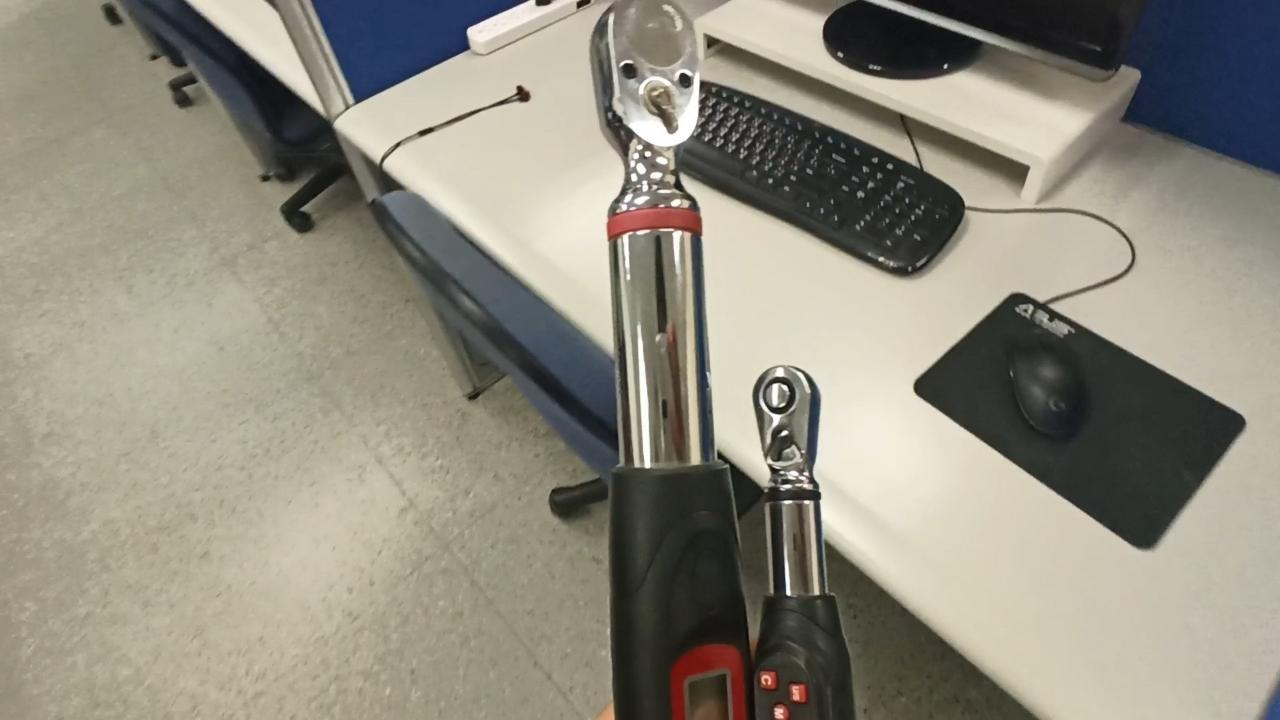Tool: (592, 0, 720, 224), (750, 364, 829, 488)
